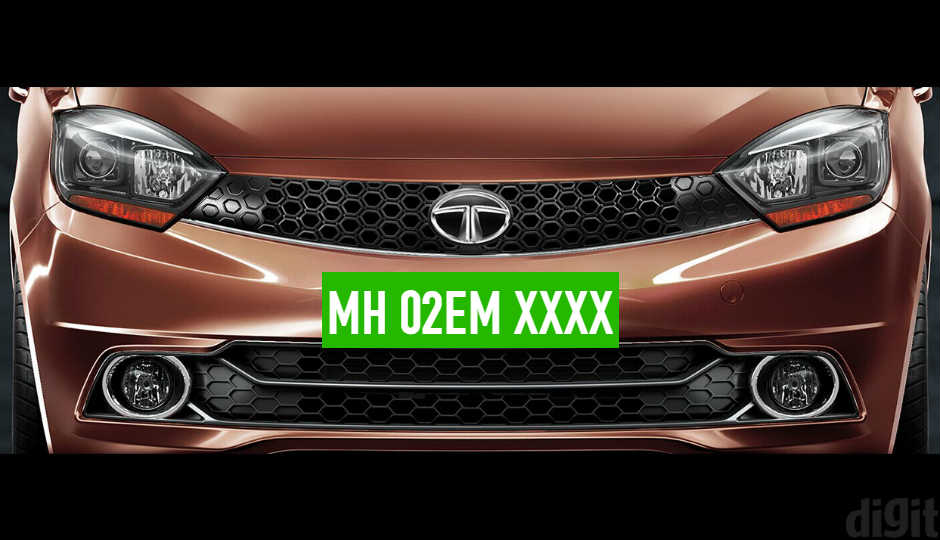number_plate: (323, 276, 617, 343)
